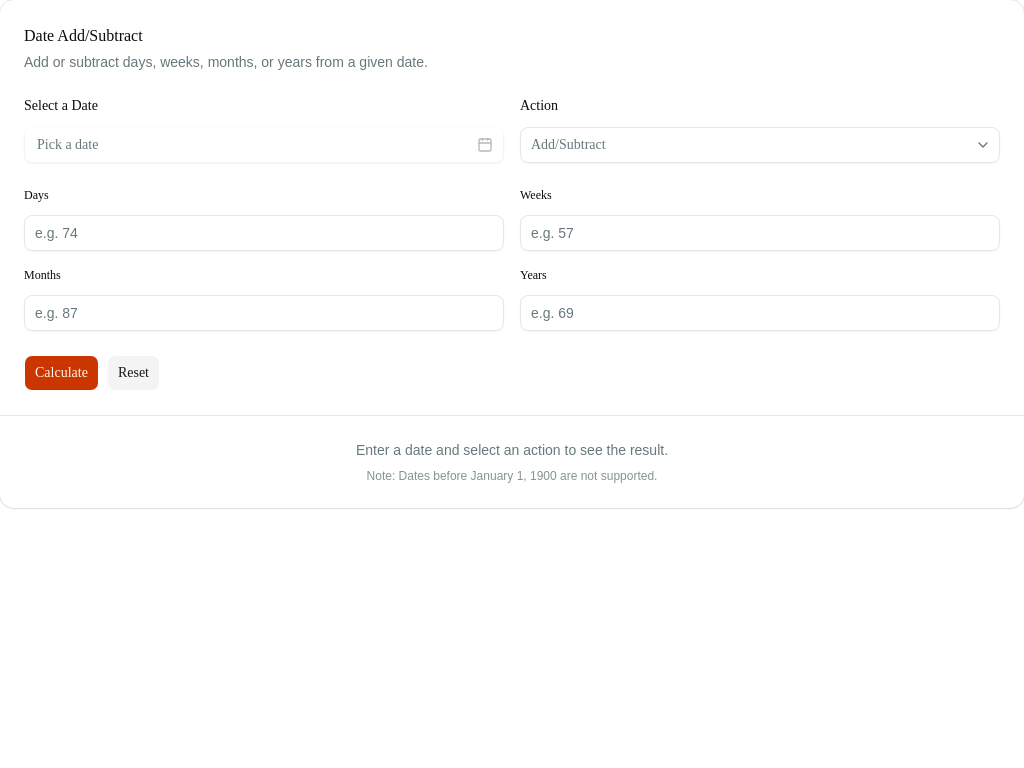
Test: DateAddSubtract › onSubmit success › result shown for action=add days=10
This screenshot has width=1024, height=768.
Step 1. Click the button with id "calendar" → (68, 145), box [24,127,504,163]
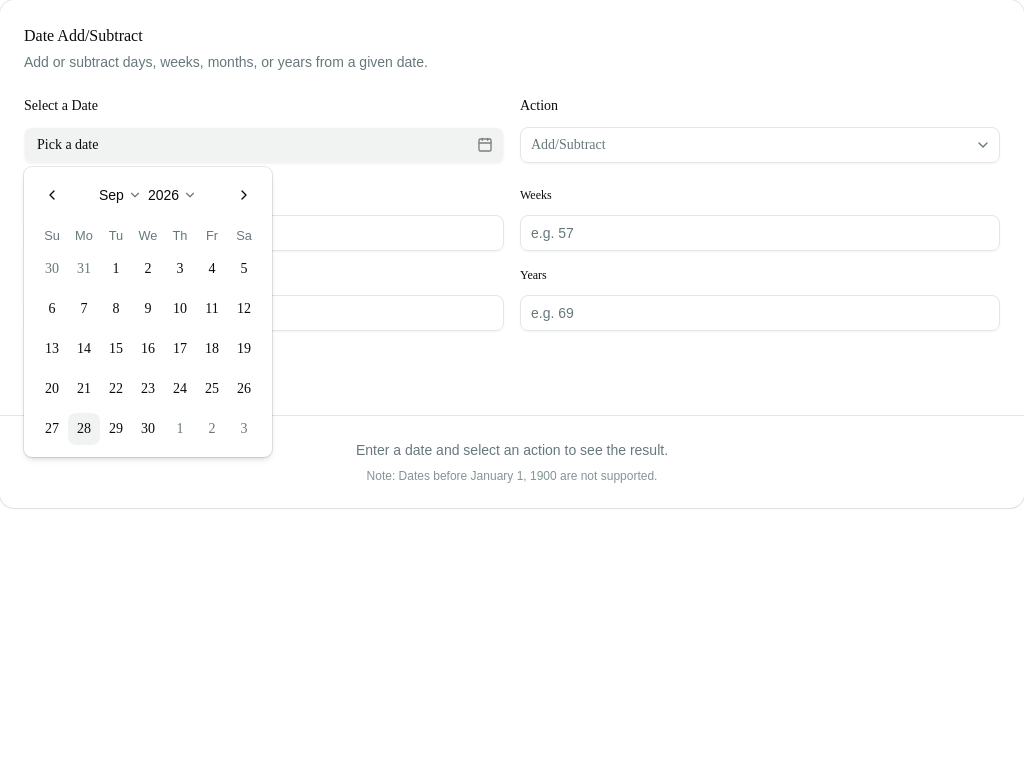
Step 2. Click the 1st button "30" → (52, 269), box [36,253,68,285]
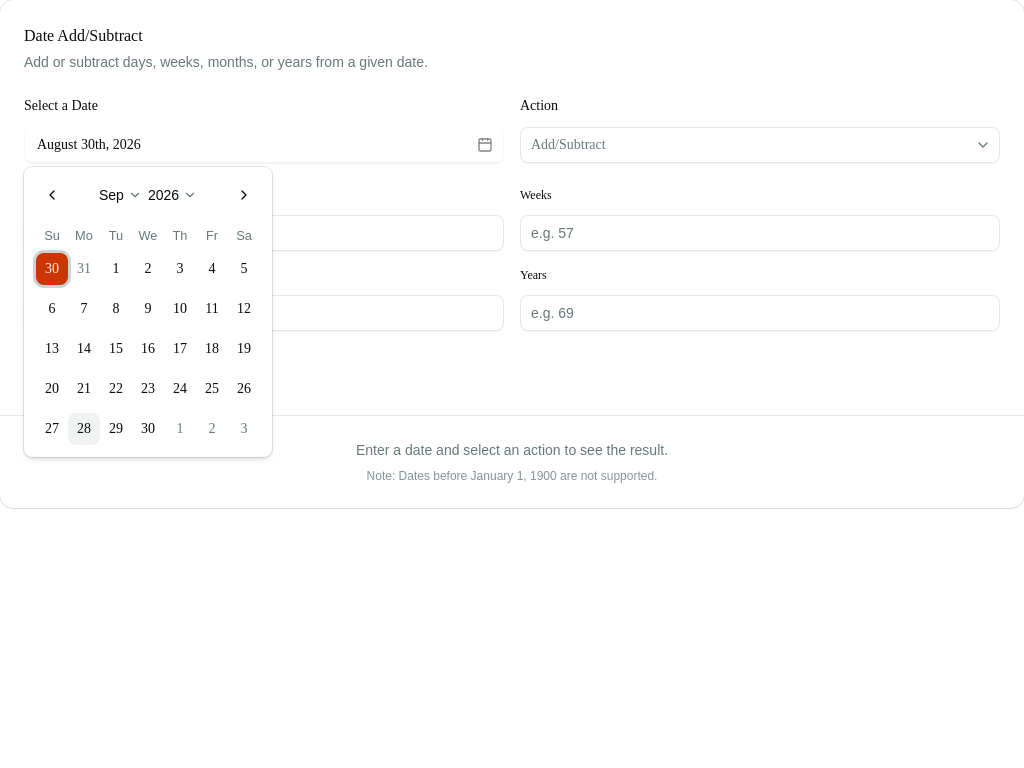
Step 3. Click the dropdown with id "action" → (568, 145), box [520,127,1000,163]
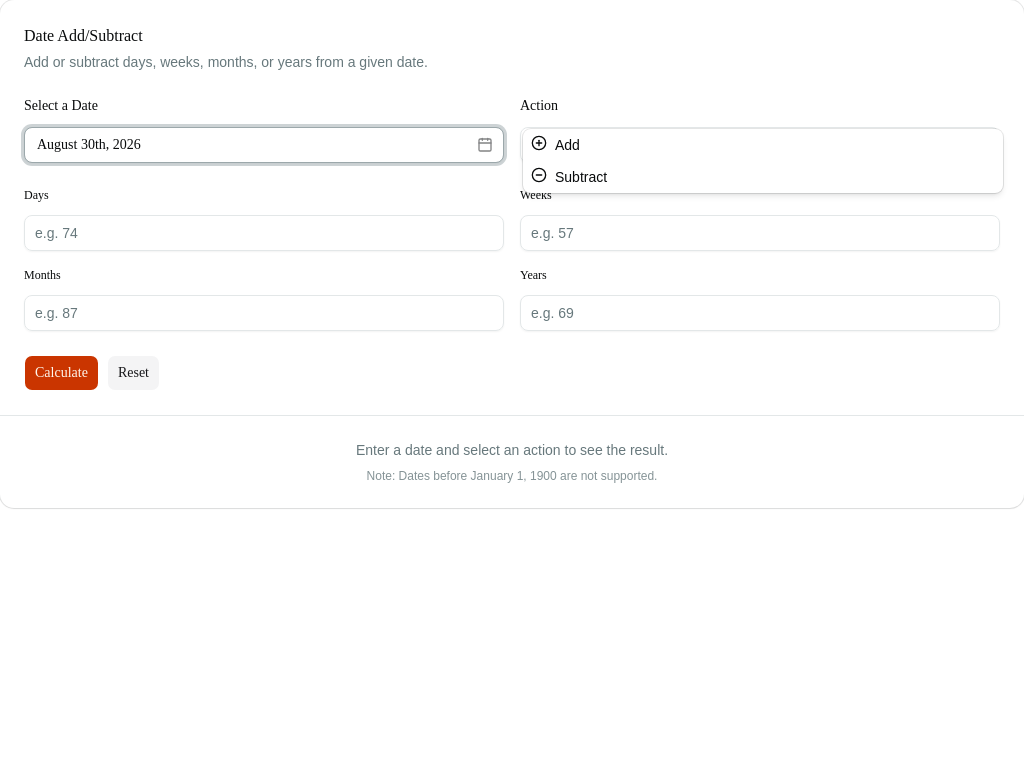
Step 4. Click the option "Add" → (555, 144), box [531,135,580,153]
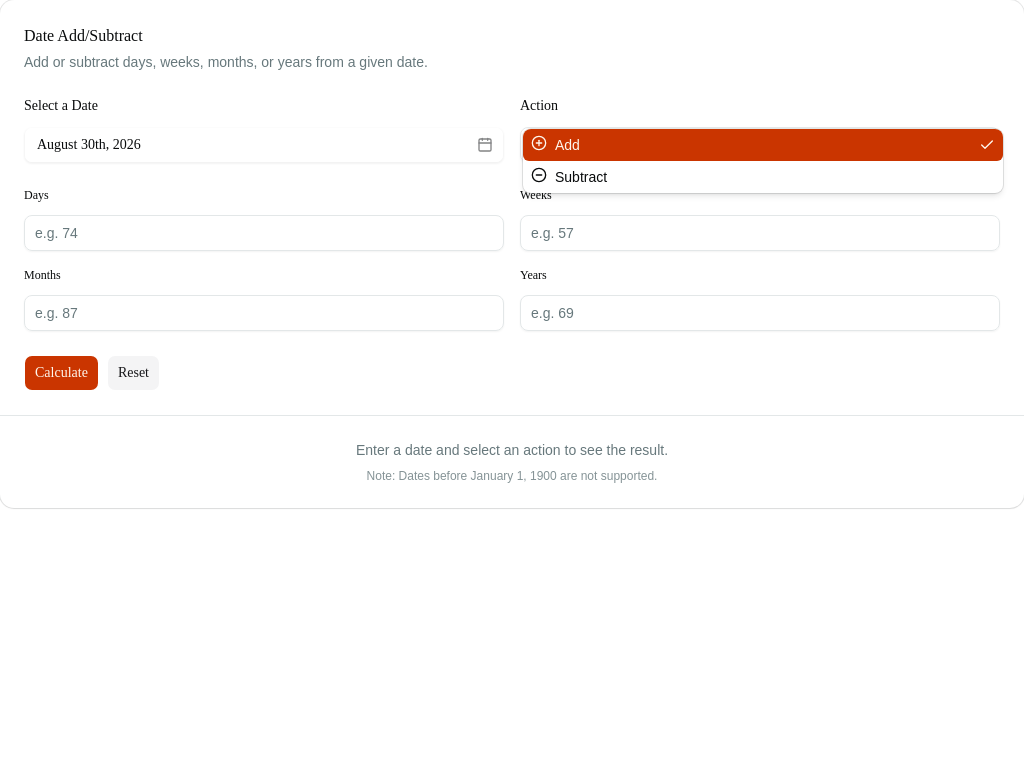
Step 5. Type "10" into the field labelled "days" → (264, 233), box [24,215,504,251]
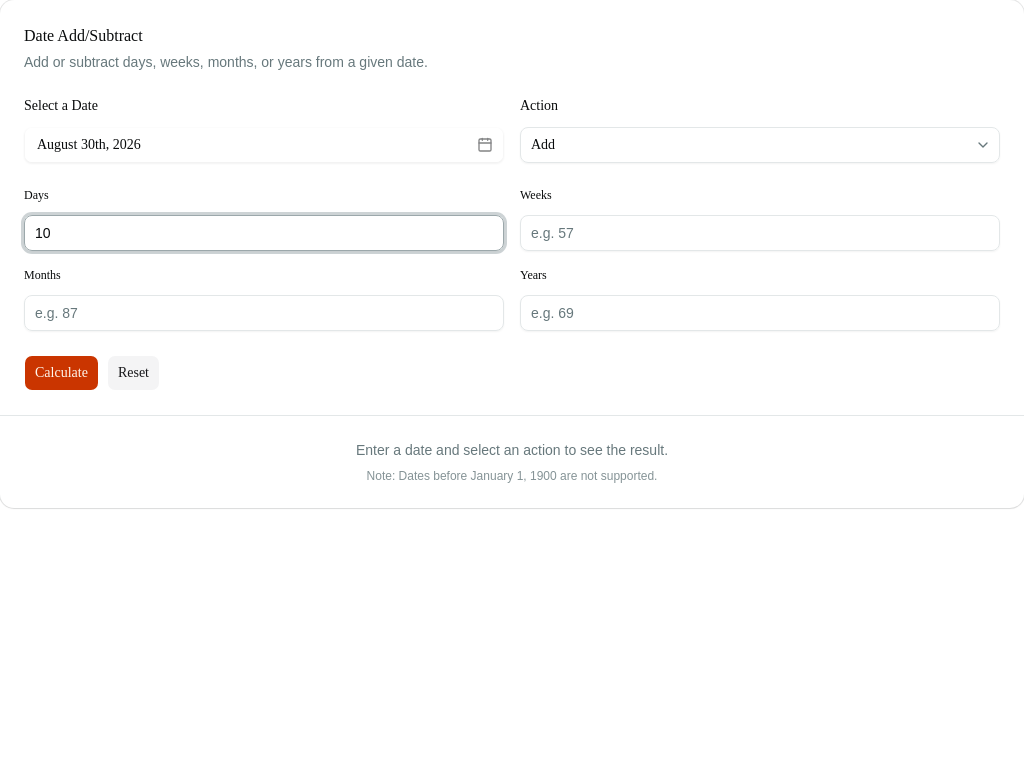
Step 6. Click the button with aria-label "calculate date add/subtract" → (61, 373), box [24,355,99,391]
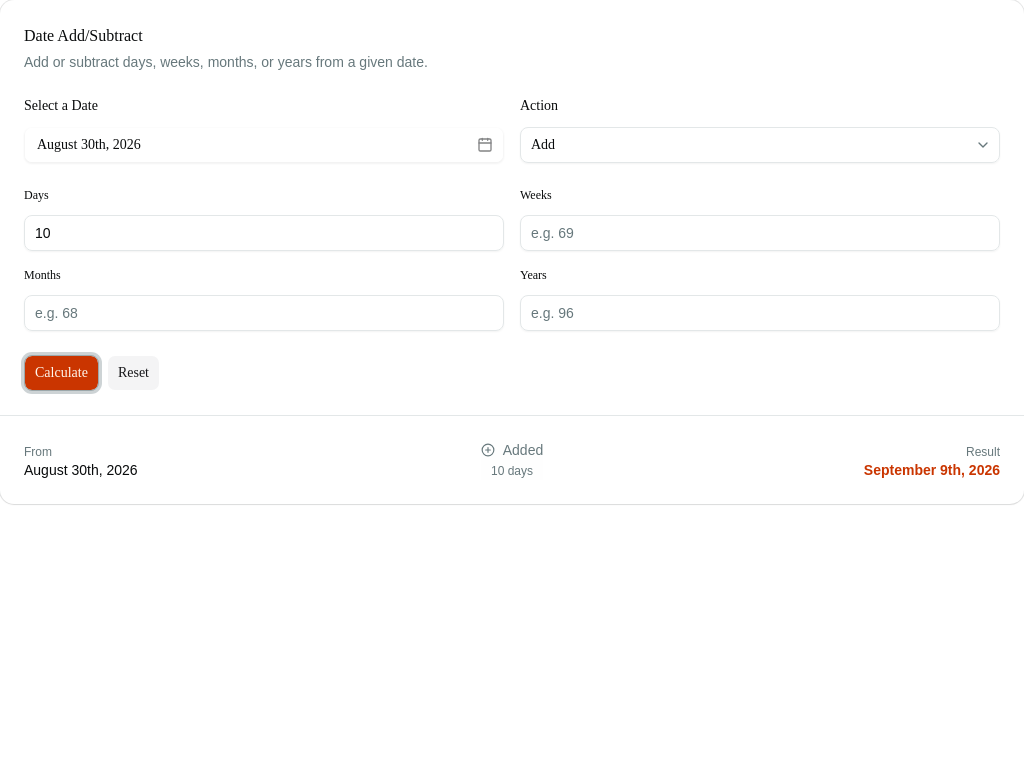
expect the text "added" is shown: met, box [503,440,543,460]
expect the text "10 days" is shown: met, box [491,464,533,478]
